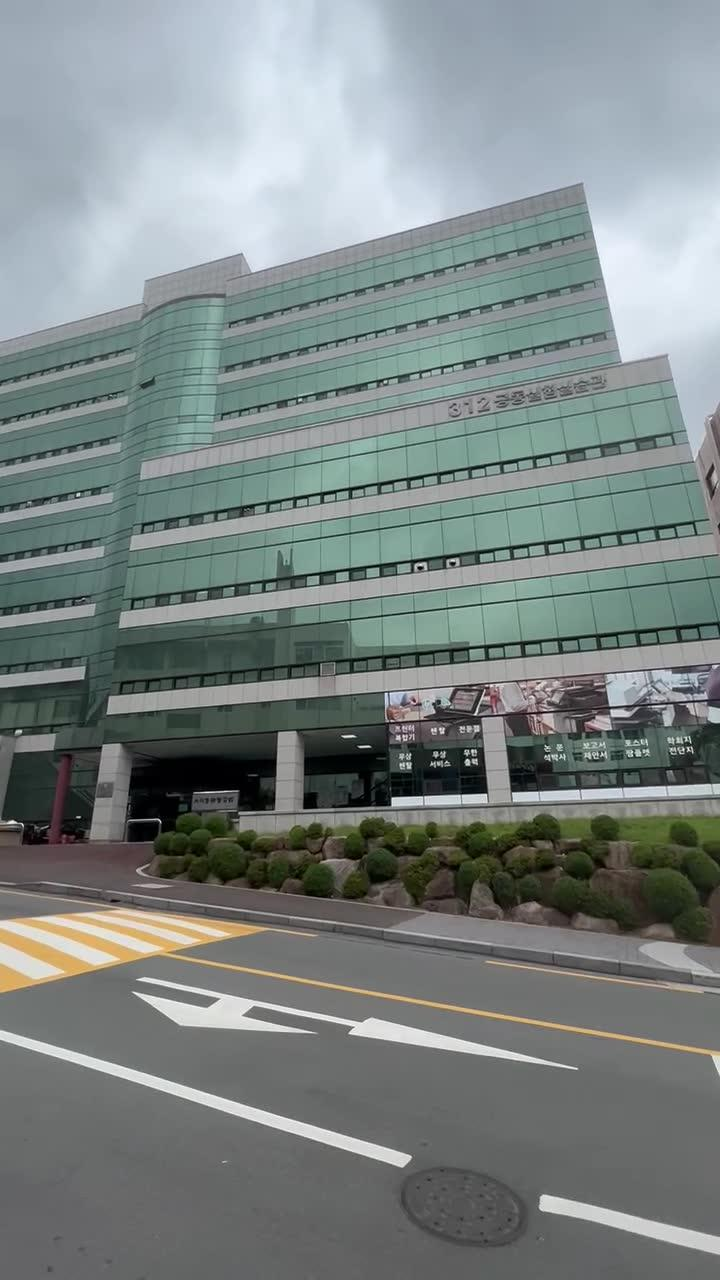building: (38, 208, 696, 682)
